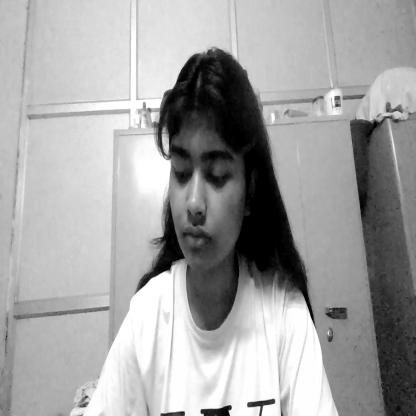Distracted: (160, 54, 261, 285)
